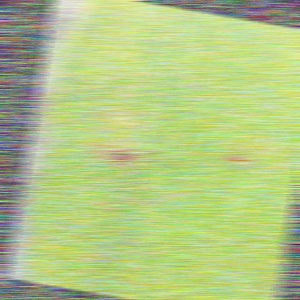Bacterial_Leaf_Blight: (104, 139, 149, 176), (247, 136, 287, 160), (215, 148, 249, 170)
